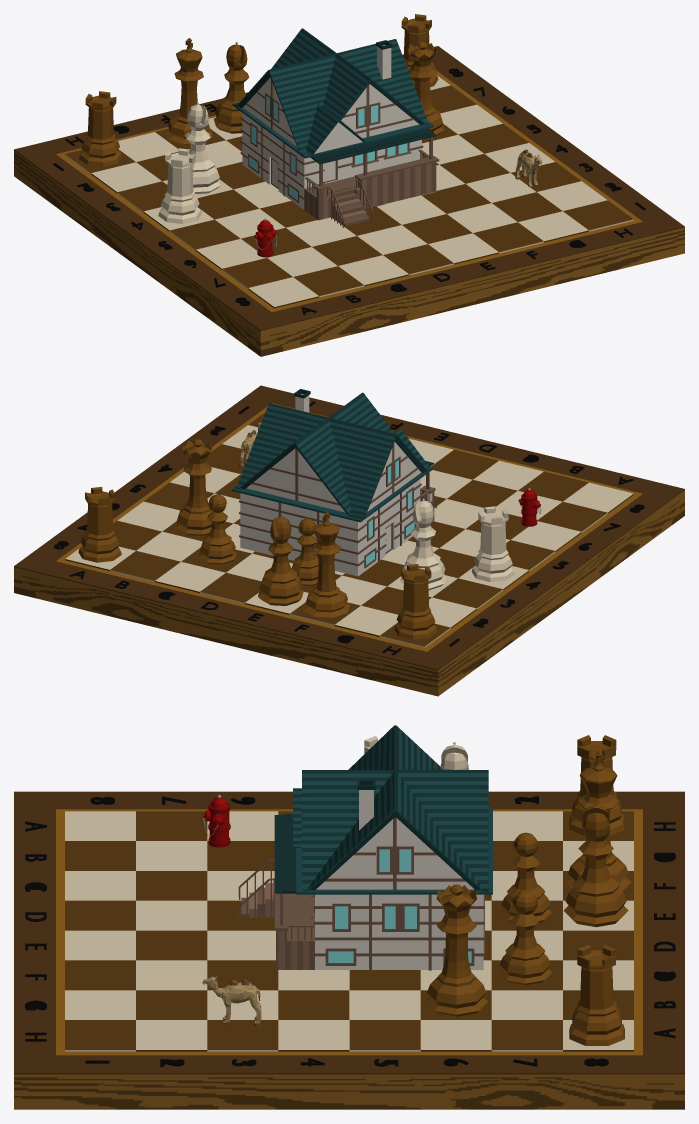
3 renders of one model, top to bottom at view 1: azimuth 30°, elevation 25°; view 2: azimuth 150°, elevation 25°; view 3: azimuth 270°, elevation 25°, orthographic. The views are drawn at different scales.
Visible parts, largest first — view 1: Cube.002, Cube.793, OBJRANDOM_FIRE_HYDRANT, ANIMAL_CAMELLO; view 2: Cube.002, Cube.793, OBJRANDOM_FIRE_HYDRANT; view 3: Cube.002, Cube.793, ANIMAL_CAMELLO, OBJRANDOM_FIRE_HYDRANT.
Boxes of the visible parts, x1,y1,x2,y2 form: Cube.002: [14, 14, 684, 356]; Cube.793: [232, 28, 439, 227]; OBJRANDOM_FIRE_HYDRANT: [254, 218, 276, 257]; ANIMAL_CAMELLO: [515, 149, 542, 187]; Cube.002: [14, 385, 684, 696]; Cube.793: [232, 389, 436, 576]; OBJRANDOM_FIRE_HYDRANT: [518, 487, 541, 526]; Cube.002: [14, 735, 684, 1109]; Cube.793: [238, 725, 492, 970]; ANIMAL_CAMELLO: [202, 975, 261, 1025]; OBJRANDOM_FIRE_HYDRANT: [203, 794, 230, 847].
Size of the model in its own units: 3981 by 1462 by 4012.
Materials: 24 (3 with a texture image).
